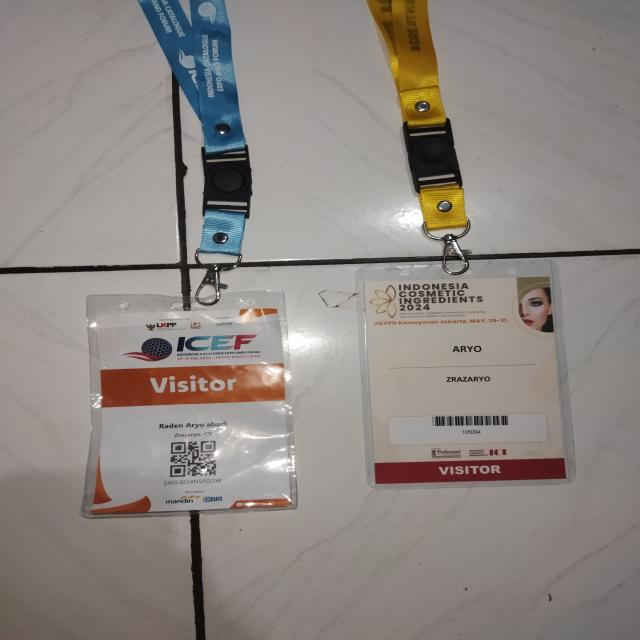ID_card: (356, 259, 576, 489), (80, 290, 297, 519)
